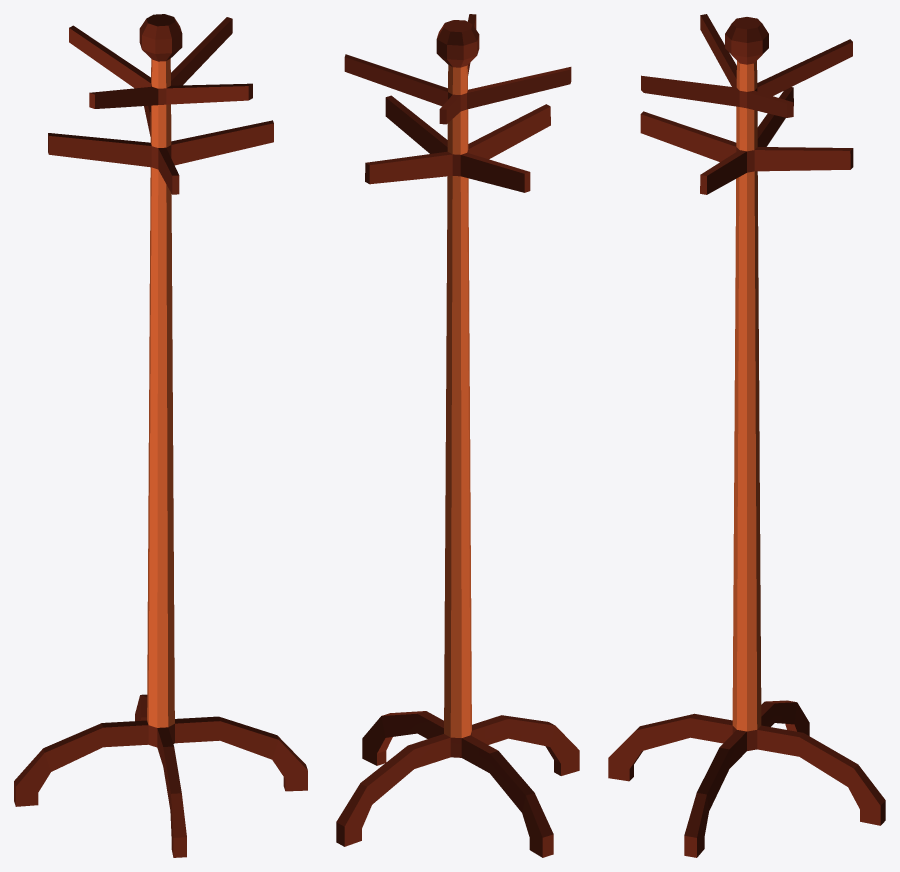
File: Coat Rack 4.fbx
The picture shows the model from 3 angles, left to right: view 1: azimuth 30°, elevation 25°; view 2: azimuth 150°, elevation 25°; view 3: azimuth 270°, elevation 25°; orthographic projection.
Parts seen in each view (by area): view 1: Coat Rack; view 2: Coat Rack; view 3: Coat Rack.
Boxes of the visible parts, x1,y1,x2,y2 form: Coat Rack: (14, 14, 307, 857); Coat Rack: (336, 14, 579, 857); Coat Rack: (608, 14, 885, 857).
Bounding box in the file's own units: 0.6889 × 2.13 × 0.6889.
